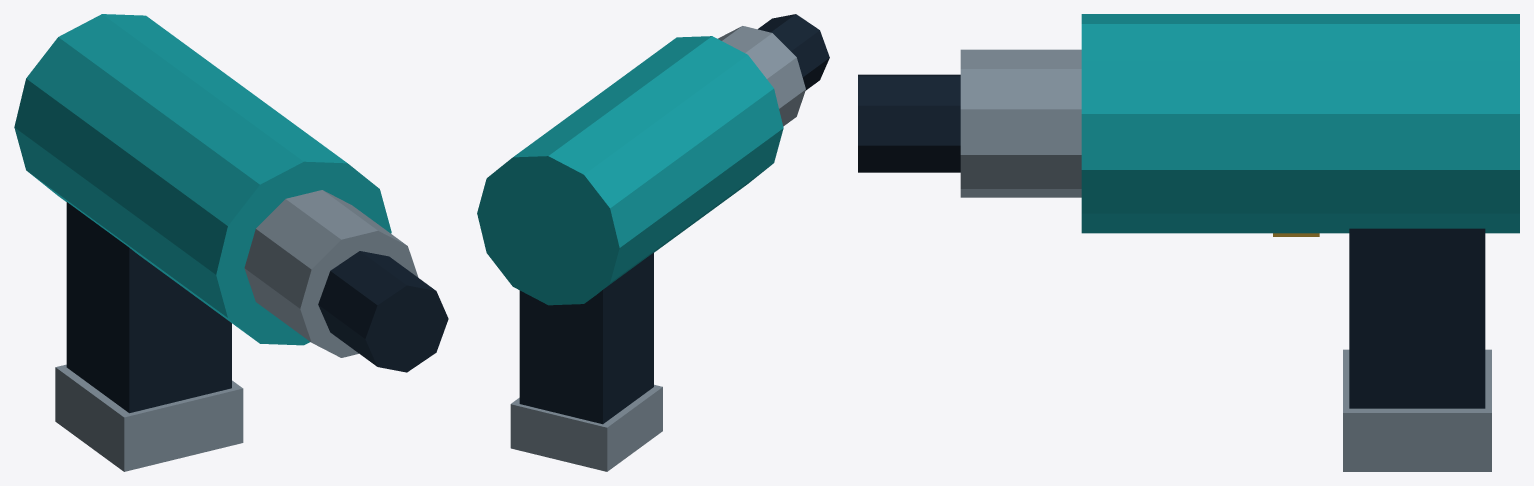
File: wheel_gun.glb
3 views of the same model, side by side, from view 1: azimuth 30°, elevation 25°; view 2: azimuth 150°, elevation 25°; view 3: azimuth 270°, elevation 25° (orthographic). The views are drawn at different scales.
Visible parts, largest first — view 1: WheelGun; view 2: WheelGun; view 3: WheelGun.
Boxes of the visible parts, bbox=[...] form: WheelGun: bbox=[14, 14, 448, 471]; WheelGun: bbox=[477, 14, 829, 471]; WheelGun: bbox=[858, 14, 1519, 471].
Bounding box in the file's own units: 0.118 × 0.2465 × 0.355.
